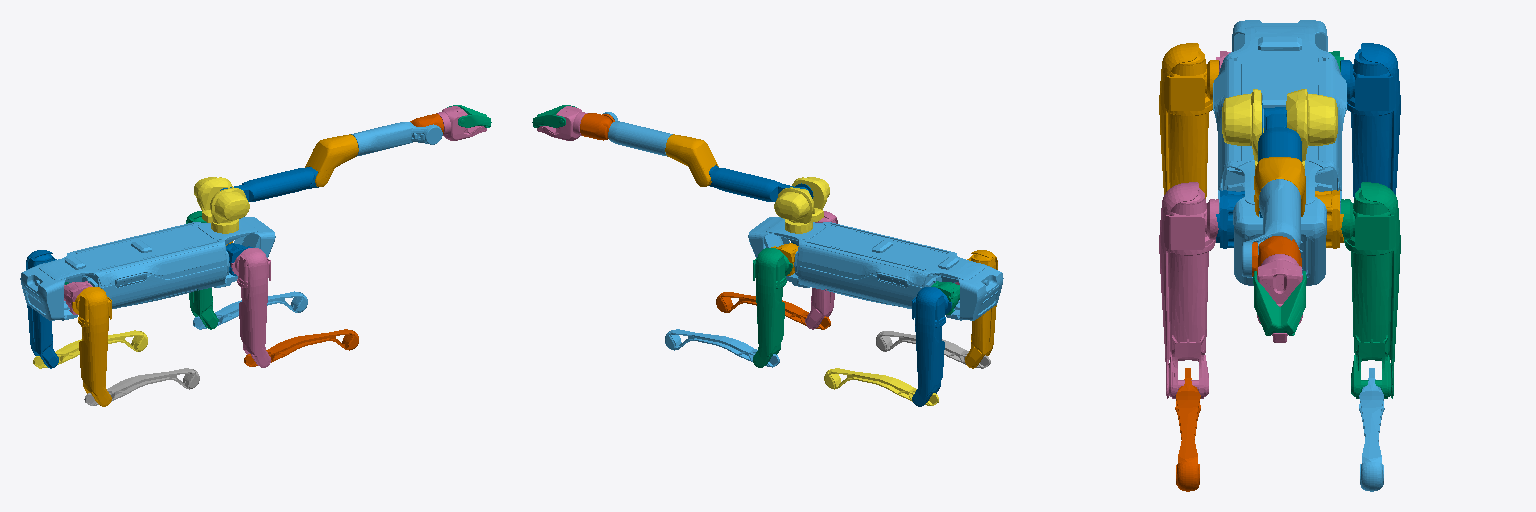
URDF robot description (spot_arm_original):
<?xml version="1.0" encoding="UTF-8"?>
<robot name="spot_arm_original">
  <joint name="arm0_el0" type="revolute">
    <origin xyz="0.3385 0. 0. " rpy="0. 0. 0."/>
    <parent link="arm0_link_sh1"/>
    <child link="arm0_link_el0"/>
    <axis xyz="0. 1. 0."/>
    <limit lower="0." upper="3.14159" effort="90.9000015" velocity="99.9000045"/>
  </joint>
  <joint name="arm0_el1" type="revolute">
    <origin xyz="0.4033 0. 0.075 " rpy="0. 0. 0."/>
    <parent link="arm0_link_el0"/>
    <child link="arm0_link_el1"/>
    <axis xyz="1. 0. 0."/>
    <limit lower="-2.79253" upper="2.79253" effort="30.2999992" velocity="99.9000045"/>
  </joint>
  <joint name="arm0_f1x" type="revolute">
    <origin xyz="0.11745 0. 0.01482" rpy="0. 0. 0."/>
    <parent link="arm0_link_wr1"/>
    <child link="arm0_link_fngr"/>
    <axis xyz="0. 1. 0."/>
    <limit lower="-1.5707999" upper="0." effort="15.3199997" velocity="99.9000045"/>
  </joint>
  <joint name="arm0_sh0" type="revolute">
    <origin xyz="0.292 0. 0.188" rpy="0. 0. 0."/>
    <parent link="spot"/>
    <child link="arm0_link_sh0"/>
    <axis xyz="0. 0. 1."/>
    <limit lower="-2.6179899" upper="3.14159" effort="90.9000015" velocity="99.9000045"/>
  </joint>
  <joint name="arm0_sh1" type="revolute">
    <origin xyz="0. 0. 0." rpy="0. 0. 0."/>
    <parent link="arm0_link_sh0"/>
    <child link="arm0_link_sh1"/>
    <axis xyz="0. 1. 0."/>
    <limit lower="-3.14159" upper="0.523599" effort="181.8000031" velocity="99.9000045"/>
  </joint>
  <joint name="arm0_wr0" type="revolute">
    <origin xyz="-0.0000001 0. 0. " rpy="0. 0. 0."/>
    <parent link="arm0_link_el1"/>
    <child link="arm0_link_wr0"/>
    <axis xyz="0. 1. 0."/>
    <limit lower="-1.8325998" upper="1.8325998" effort="30.2999992" velocity="99.9000045"/>
  </joint>
  <joint name="arm0_wr1" type="revolute">
    <origin xyz="0. 0. 0." rpy="0. 0. 0."/>
    <parent link="arm0_link_wr0"/>
    <child link="arm0_link_wr1"/>
    <axis xyz="1. 0. 0."/>
    <limit lower="-2.8798899" upper="2.8797898" effort="30.2999992" velocity="99.9000045"/>
  </joint>
  <joint name="fl_ank" type="fixed">
    <origin xyz="0. 0. -0.3365" rpy="0. 0. 0."/>
    <parent link="fl_lleg"/>
    <child link="fl_foot"/>
  </joint>
  <joint name="fl_hx" type="revolute">
    <origin xyz="0.29785 0.055 0. " rpy="0. 0. 0."/>
    <parent link="spot"/>
    <child link="fl_hip"/>
    <axis xyz="1. 0. 0."/>
    <limit lower="-0.785398" upper="0.785398" effort="45." velocity="100.000003"/>
  </joint>
  <joint name="fl_hy" type="revolute">
    <origin xyz="0. 0.110945 0. " rpy="0. 0. 0."/>
    <parent link="fl_hip"/>
    <child link="fl_uleg"/>
    <axis xyz="0. 1. 0."/>
    <limit lower="-0.898845" upper="2.295108" effort="45." velocity="100.000003"/>
  </joint>
  <joint name="fl_kn" type="revolute">
    <origin xyz="0.025 0. -0.3205" rpy="0. 0. 0."/>
    <parent link="fl_uleg"/>
    <child link="fl_lleg"/>
    <axis xyz="0. 1. 0."/>
    <limit lower="-2.7928999" upper="-0.2471" effort="115." velocity="100.000003"/>
  </joint>
  <joint name="fr_ank" type="fixed">
    <origin xyz="0. 0. -0.3365" rpy="0. 0. 0."/>
    <parent link="fr_lleg"/>
    <child link="fr_foot"/>
  </joint>
  <joint name="fr_hx" type="revolute">
    <origin xyz="0.29785 -0.055 0. " rpy="0. 0. 0."/>
    <parent link="spot"/>
    <child link="fr_hip"/>
    <axis xyz="1. 0. 0."/>
    <limit lower="-0.785398" upper="0.785398" effort="45." velocity="100.000003"/>
  </joint>
  <joint name="fr_hy" type="revolute">
    <origin xyz="0. -0.110945 0. " rpy="0. 0. 0."/>
    <parent link="fr_hip"/>
    <child link="fr_uleg"/>
    <axis xyz="0. 1. 0."/>
    <limit lower="-0.898845" upper="2.295108" effort="45." velocity="100.000003"/>
  </joint>
  <joint name="fr_kn" type="revolute">
    <origin xyz="0.025 0. -0.3205" rpy="0. 0. 0."/>
    <parent link="fr_uleg"/>
    <child link="fr_lleg"/>
    <axis xyz="0. 1. 0."/>
    <limit lower="-2.7928999" upper="-0.2471" effort="115." velocity="100.000003"/>
  </joint>
  <joint name="hl_ank" type="fixed">
    <origin xyz="0. 0. -0.3365" rpy="0. 0. 0."/>
    <parent link="hl_lleg"/>
    <child link="hl_foot"/>
  </joint>
  <joint name="hl_hx" type="revolute">
    <origin xyz="-0.29785 0.055 0. " rpy="0. 0. 0."/>
    <parent link="spot"/>
    <child link="hl_hip"/>
    <axis xyz="1. 0. 0."/>
    <limit lower="-0.785398" upper="0.785398" effort="45." velocity="100.000003"/>
  </joint>
  <joint name="hl_hy" type="revolute">
    <origin xyz="0. 0.110945 0. " rpy="0. 0. 0."/>
    <parent link="hl_hip"/>
    <child link="hl_uleg"/>
    <axis xyz="0. 1. 0."/>
    <limit lower="-0.898845" upper="2.295108" effort="45." velocity="100.000003"/>
  </joint>
  <joint name="hl_kn" type="revolute">
    <origin xyz="0.025 0. -0.3205" rpy="0. 0. 0."/>
    <parent link="hl_uleg"/>
    <child link="hl_lleg"/>
    <axis xyz="0. 1. 0."/>
    <limit lower="-2.7928999" upper="-0.2471" effort="115." velocity="100.000003"/>
  </joint>
  <joint name="hr_ank" type="fixed">
    <origin xyz="0. 0. -0.3365" rpy="0. 0. 0."/>
    <parent link="hr_lleg"/>
    <child link="hr_foot"/>
  </joint>
  <joint name="hr_hx" type="revolute">
    <origin xyz="-0.29785 -0.055 0. " rpy="0. 0. 0."/>
    <parent link="spot"/>
    <child link="hr_hip"/>
    <axis xyz="1. 0. 0."/>
    <limit lower="-0.785398" upper="0.785398" effort="45." velocity="100.000003"/>
  </joint>
  <joint name="hr_hy" type="revolute">
    <origin xyz="0. -0.110945 0. " rpy="0. 0. 0."/>
    <parent link="hr_hip"/>
    <child link="hr_uleg"/>
    <axis xyz="0. 1. 0."/>
    <limit lower="-0.898845" upper="2.295108" effort="45." velocity="100.000003"/>
  </joint>
  <joint name="hr_kn" type="revolute">
    <origin xyz="0.025 0. -0.3205" rpy="0. 0. 0."/>
    <parent link="hr_uleg"/>
    <child link="hr_lleg"/>
    <axis xyz="0. 1. 0."/>
    <limit lower="-2.7928999" upper="-0.2471" effort="115." velocity="100.000003"/>
  </joint>
  <joint name="joint_spot-frontleft_fisheye" type="fixed">
    <origin xyz="0.4301646 -0.046357 0. " rpy="1.5707964 0. -2.0592291"/>
    <parent link="spot"/>
    <child link="frontleft_fisheye"/>
  </joint>
  <joint name="joint_spot-frontright_fisheye" type="fixed">
    <origin xyz="0.4155736 0. 0. " rpy="1.4569141 0.1030408 -1.1296011"/>
    <parent link="spot"/>
    <child link="frontright_fisheye"/>
  </joint>
  <link name="arm0_link_el0">
    <inertial>
      <origin xyz="0.0447662 -0.0027113 0.0499136" rpy="0. 0. 0."/>
      <mass value="0.9483196"/>
      <inertia ixx="0.0017591" ixy="0.0000609" ixz="0.0009238" iyy="0.0026923" iyz="0.0000522" izz="0.0020285"/>
    </inertial>
    <visual>
      <origin xyz="-0. 0. 0." rpy="0. 0. 0."/>
      <geometry>
        <mesh filename="meshes/arm0_link_el0_visuals.obj" scale="1. 1. 1."/>
      </geometry>
    </visual>
    <collision>
      <origin xyz="-0. 0. 0." rpy="0. 0. 0."/>
      <geometry>
        <mesh filename="meshes/arm0_link_el0_visuals.obj" scale="1. 1. 1."/>
      </geometry>
    </collision>
  </link>
  <link name="arm0_link_el1">
    <inertial>
      <origin xyz="-0.1686707 -0.0161612 0.0000115" rpy="0. 0. 0."/>
      <mass value="1.0175482"/>
      <inertia ixx="0.0011771" ixy="-0.0026055" ixz="0.0000016" iyy="0.0164939" iyz="-0.0000029" izz="0.016899"/>
    </inertial>
    <visual>
      <origin xyz="-0.0000001 0. 0. " rpy="0. 0. 0."/>
      <geometry>
        <mesh filename="meshes/arm0_link_el1_visuals.obj" scale="1. 1. 1."/>
      </geometry>
    </visual>
    <collision>
      <origin xyz="-0.0000001 0. 0. " rpy="0. 0. 0."/>
      <geometry>
        <mesh filename="meshes/arm0_link_el1_visuals.obj" scale="1. 1. 1."/>
      </geometry>
    </collision>
  </link>
  <link name="arm0_link_fngr">
    <inertial>
      <origin xyz="0.0356518 0.000672 -0.0122752" rpy="0. 0. 0."/>
      <mass value="0.2238331"/>
      <inertia ixx="0.0002523" ixy="-0.0000054" ixz="-0.0001507" iyy="0.0004845" iyz="0.0000018" izz="0.0005914"/>
    </inertial>
    <visual>
      <origin xyz="0. 0. 0." rpy="0. 0. 0."/>
      <geometry>
        <mesh filename="meshes/arm0_link_fngr_visuals.obj" scale="1. 1. 1."/>
      </geometry>
    </visual>
    <collision>
      <origin xyz="0. 0. 0." rpy="0. 0. 0."/>
      <geometry>
        <mesh filename="meshes/arm0_link_fngr_visuals.obj" scale="1. 1. 1."/>
      </geometry>
    </collision>
  </link>
  <link name="arm0_link_sh0">
    <inertial>
      <origin xyz="-0.008399 0.000272 -0.024603" rpy="0. 0. 0."/>
      <mass value="1.904699"/>
      <inertia ixx="0.008896" ixy="0.000005" ixz="-0.000193" iyy="0.004922" iyz="0.000033" izz="0.007303"/>
    </inertial>
    <visual>
      <origin xyz="0. 0. 0." rpy="0. 0. 0."/>
      <geometry>
        <mesh filename="meshes/arm0_link_sh0_visuals.obj" scale="1. 1. 1."/>
      </geometry>
    </visual>
    <collision>
      <origin xyz="0. 0. 0." rpy="0. 0. 0."/>
      <geometry>
        <mesh filename="meshes/arm0_link_sh0_visuals.obj" scale="1. 1. 1."/>
      </geometry>
    </collision>
  </link>
  <link name="arm0_link_sh1">
    <inertial>
      <origin xyz="0.0808491 -0.0016724 0.0004564" rpy="0. 0. 0."/>
      <mass value="1.8570194"/>
      <inertia ixx="0.0026153" ixy="-0.0004041" ixz="0.0001002" iyy="0.0270387" iyz="0.0000055" izz="0.0281993"/>
    </inertial>
    <visual>
      <origin xyz="0. 0. 0." rpy="0. 0. 0."/>
      <geometry>
        <mesh filename="meshes/arm0_link_sh1_visuals_mesh_0.obj" scale="1. 1. 1."/>
      </geometry>
    </visual>
    <visual>
      <origin xyz="0. 0. 0." rpy="0. 0. 0."/>
      <geometry>
        <mesh filename="meshes/arm0_link_sh1_visuals_mesh_1.obj" scale="1. 1. 1."/>
      </geometry>
    </visual>
    <collision>
      <origin xyz="0. 0. 0." rpy="0. 0. 0."/>
      <geometry>
        <mesh filename="meshes/arm0_link_sh1_visuals_mesh_0.obj" scale="1. 1. 1."/>
      </geometry>
    </collision>
    <collision>
      <origin xyz="0. 0. 0." rpy="0. 0. 0."/>
      <geometry>
        <mesh filename="meshes/arm0_link_sh1_visuals_mesh_1.obj" scale="1. 1. 1."/>
      </geometry>
    </collision>
  </link>
  <link name="arm0_link_wr0">
    <inertial>
      <origin xyz="0.0095246 -0.0114441 0.0000019" rpy="0. 0. 0."/>
      <mass value="0.5826374"/>
      <inertia ixx="0.0004674" ixy="0.0000696" ixz="0.0000004" iyy="0.0004497" iyz="0.0000002" izz="0.0005362"/>
    </inertial>
    <visual>
      <origin xyz="0. 0. 0." rpy="0. 0. 0."/>
      <geometry>
        <mesh filename="meshes/arm0_link_wr0_visuals.obj" scale="1. 1. 1."/>
      </geometry>
    </visual>
    <collision>
      <origin xyz="0. 0. 0." rpy="0. 0. 0."/>
      <geometry>
        <mesh filename="meshes/arm0_link_wr0_visuals.obj" scale="1. 1. 1."/>
      </geometry>
    </collision>
  </link>
  <link name="arm0_link_wr1">
    <inertial>
      <origin xyz="0.0975128 0.0000926 -0.0112052" rpy="0. 0. 0."/>
      <mass value="0.933353"/>
      <inertia ixx="0.0009884" ixy="-0.0000013" ixz="-0.0003692" iyy="0.0019702" iyz="-0.0000007" izz="0.0016579"/>
    </inertial>
    <visual>
      <origin xyz="0. 0. 0." rpy="0. 0. 0."/>
      <geometry>
        <mesh filename="meshes/arm0_link_wr1_visuals.obj" scale="1. 1. 1."/>
      </geometry>
    </visual>
    <collision>
      <origin xyz="0. 0. 0." rpy="0. 0. 0."/>
      <geometry>
        <mesh filename="meshes/arm0_link_wr1_visuals.obj" scale="1. 1. 1."/>
      </geometry>
    </collision>
  </link>
  <link name="fl_foot">
    <inertial>
      <origin xyz="0. 0. 0." rpy="0. 0. 0."/>
      <mass value="0.000001"/>
      <inertia ixx="0.001" ixy="0." ixz="0." iyy="0.001" iyz="0." izz="0.001"/>
    </inertial>
    <collision>
      <origin xyz="0. 0. 0." rpy="0. 0. 0."/>
      <geometry>
        <sphere radius="0.035"/>
      </geometry>
    </collision>
  </link>
  <link name="fl_hip">
    <inertial>
      <origin xyz="-0.0158674 0.0085584 0.000009 " rpy="0. 0. 0."/>
      <mass value="1.1368834"/>
      <inertia ixx="0.0012217" ixy="-0.0001775" ixz="0.0000004" iyy="0.0015896" iyz="-0.0000005" izz="0.001729"/>
    </inertial>
    <visual>
      <origin xyz="0. 0. 0." rpy="0. 0. 0."/>
      <geometry>
        <mesh filename="meshes/fl_hip_visuals_mesh_0.obj" scale="1. 1. 1."/>
      </geometry>
    </visual>
  </link>
  <link name="fl_lleg">
    <inertial>
      <origin xyz="0.0059736 0. -0.1746643" rpy="0. 0. 0."/>
      <mass value="0.33"/>
      <inertia ixx="0.0070136" ixy="0." ixz="0.000066" iyy="0.0070995" iyz="0." izz="0.0001453"/>
    </inertial>
    <visual>
      <origin xyz="0. 0. 0." rpy="0. 0. 0."/>
      <geometry>
        <mesh filename="meshes/fl_lleg_visuals_mesh_0.obj" scale="1. 1. 1."/>
      </geometry>
    </visual>
  </link>
  <link name="fl_uleg">
    <inertial>
      <origin xyz="0.0021444 -0.0111018 -0.078812 " rpy="0. 0. 0."/>
      <mass value="2.2562037"/>
      <inertia ixx="0.026925" ixy="-0.0000878" ixz="0.0005487" iyy="0.0258391" iyz="0.0020715" izz="0.0031874"/>
    </inertial>
    <visual>
      <origin xyz="0. 0. 0." rpy="0. 0. 0."/>
      <geometry>
        <mesh filename="meshes/fl_uleg_visuals_mesh_0.obj" scale="1. 1. 1."/>
      </geometry>
    </visual>
  </link>
  <link name="fr_foot">
    <inertial>
      <origin xyz="0. 0. 0." rpy="0. 0. 0."/>
      <mass value="0.000001"/>
      <inertia ixx="0.001" ixy="0." ixz="0." iyy="0.001" iyz="0." izz="0.001"/>
    </inertial>
    <collision>
      <origin xyz="0. 0. 0." rpy="0. 0. 0."/>
      <geometry>
        <sphere radius="0.035"/>
      </geometry>
    </collision>
  </link>
  <link name="fr_hip">
    <inertial>
      <origin xyz="-0.0158674 -0.0085584 0.000009 " rpy="0. 0. 0."/>
      <mass value="1.1368834"/>
      <inertia ixx="0.0012217" ixy="0.0001775" ixz="0.0000004" iyy="0.0015896" iyz="0.0000005" izz="0.001729"/>
    </inertial>
    <visual>
      <origin xyz="0. 0. 0." rpy="0. 0. 0."/>
      <geometry>
        <mesh filename="meshes/fr_hip_visuals_mesh_0.obj" scale="1. 1. 1."/>
      </geometry>
    </visual>
  </link>
  <link name="fr_lleg">
    <inertial>
      <origin xyz="0.0059736 0. -0.1746643" rpy="0. 0. 0."/>
      <mass value="0.33"/>
      <inertia ixx="0.0070136" ixy="0." ixz="0.000066" iyy="0.0070995" iyz="0." izz="0.0001453"/>
    </inertial>
    <visual>
      <origin xyz="0. 0. 0." rpy="0. 0. 0."/>
      <geometry>
        <mesh filename="meshes/fr_lleg_visuals_mesh_0.obj" scale="1. 1. 1."/>
      </geometry>
    </visual>
  </link>
  <link name="fr_uleg">
    <inertial>
      <origin xyz="0.0021444 0.0111018 -0.078812 " rpy="0. 0. 0."/>
      <mass value="2.2562037"/>
      <inertia ixx="0.026925" ixy="0.0000878" ixz="0.0005487" iyy="0.0258391" iyz="-0.0020715" izz="0.0031874"/>
    </inertial>
    <visual>
      <origin xyz="0. 0. 0." rpy="0. 0. 0."/>
      <geometry>
        <mesh filename="meshes/fr_uleg_visuals_mesh_0.obj" scale="1. 1. 1."/>
      </geometry>
    </visual>
  </link>
  <link name="frontleft_fisheye"/>
  <link name="frontright_fisheye"/>
  <link name="hl_foot">
    <inertial>
      <origin xyz="0. 0. 0." rpy="0. 0. 0."/>
      <mass value="0.000001"/>
      <inertia ixx="0.001" ixy="0." ixz="0." iyy="0.001" iyz="0." izz="0.001"/>
    </inertial>
    <collision>
      <origin xyz="0. 0. 0." rpy="0. 0. 0."/>
      <geometry>
        <sphere radius="0.035"/>
      </geometry>
    </collision>
  </link>
  <link name="hl_hip">
    <inertial>
      <origin xyz="0.0158674 0.0085584 0.000009 " rpy="0. 0. 0."/>
      <mass value="1.1368834"/>
      <inertia ixx="0.0012217" ixy="0.0001775" ixz="-0.0000004" iyy="0.0015896" iyz="-0.0000005" izz="0.001729"/>
    </inertial>
    <visual>
      <origin xyz="0. 0. 0." rpy="0. 0. 0."/>
      <geometry>
        <mesh filename="meshes/hl_hip_visuals_mesh_0.obj" scale="1. 1. 1."/>
      </geometry>
    </visual>
  </link>
  <link name="hl_lleg">
    <inertial>
      <origin xyz="0.0059736 0. -0.1746643" rpy="0. 0. 0."/>
      <mass value="0.33"/>
      <inertia ixx="0.0070136" ixy="0." ixz="0.000066" iyy="0.0070995" iyz="0." izz="0.0001453"/>
    </inertial>
    <visual>
      <origin xyz="0. 0. 0." rpy="0. 0. 0."/>
      <geometry>
        <mesh filename="meshes/hl_lleg_visuals_mesh_0.obj" scale="1. 1. 1."/>
      </geometry>
    </visual>
  </link>
  <link name="hl_uleg">
    <inertial>
      <origin xyz="0.0021444 -0.0111018 -0.078812 " rpy="0. 0. 0."/>
      <mass value="2.2562037"/>
      <inertia ixx="0.026925" ixy="-0.0000878" ixz="0.0005487" iyy="0.0258391" iyz="0.0020715" izz="0.0031874"/>
    </inertial>
    <visual>
      <origin xyz="0. 0. 0." rpy="0. 0. 0."/>
      <geometry>
        <mesh filename="meshes/hl_uleg_visuals_mesh_0.obj" scale="1. 1. 1."/>
      </geometry>
    </visual>
  </link>
  <link name="hr_foot">
    <inertial>
      <origin xyz="0. 0. 0." rpy="0. 0. 0."/>
      <mass value="0.000001"/>
      <inertia ixx="0.001" ixy="0." ixz="0." iyy="0.001" iyz="0." izz="0.001"/>
    </inertial>
    <collision>
      <origin xyz="0. 0. 0." rpy="0. 0. 0."/>
      <geometry>
        <sphere radius="0.035"/>
      </geometry>
    </collision>
  </link>
  <link name="hr_hip">
    <inertial>
      <origin xyz="0.0158674 -0.0085584 0.000009 " rpy="0. 0. 0."/>
      <mass value="1.1368834"/>
      <inertia ixx="0.0012217" ixy="-0.0001775" ixz="-0.0000004" iyy="0.0015896" iyz="0.0000005" izz="0.001729"/>
    </inertial>
    <visual>
      <origin xyz="0. 0. 0." rpy="0. 0. 0."/>
      <geometry>
        <mesh filename="meshes/hr_hip_visuals_mesh_0.obj" scale="1. 1. 1."/>
      </geometry>
    </visual>
  </link>
  <link name="hr_lleg">
    <inertial>
      <origin xyz="0.0059736 0. -0.1746643" rpy="0. 0. 0."/>
      <mass value="0.33"/>
      <inertia ixx="0.0070136" ixy="0." ixz="0.000066" iyy="0.0070995" iyz="0." izz="0.0001453"/>
    </inertial>
    <visual>
      <origin xyz="0. 0. 0." rpy="0. 0. 0."/>
      <geometry>
        <mesh filename="meshes/hr_lleg_visuals_mesh_0.obj" scale="1. 1. 1."/>
      </geometry>
    </visual>
  </link>
  <link name="hr_uleg">
    <inertial>
      <origin xyz="0.0021444 0.0111018 -0.078812 " rpy="0. 0. 0."/>
      <mass value="2.2562037"/>
      <inertia ixx="0.026925" ixy="0.0000878" ixz="0.0005487" iyy="0.0258391" iyz="-0.0020715" izz="0.0031874"/>
    </inertial>
    <visual>
      <origin xyz="0. 0. 0." rpy="0. 0. 0."/>
      <geometry>
        <mesh filename="meshes/hr_uleg_visuals_mesh_0.obj" scale="1. 1. 1."/>
      </geometry>
    </visual>
  </link>
  <link name="spot">
    <visual>
      <origin xyz="0. 0. 0." rpy="0. 0. 0."/>
      <geometry>
        <mesh filename="meshes/body_visuals_mesh_0.obj" scale="1. 1. 1."/>
      </geometry>
    </visual>
    <collision>
      <origin xyz="0. 0. 0." rpy="0. 0. 0."/>
      <geometry>
        <box size="0.85 0.2 0.14"/>
      </geometry>
    </collision>
  </link>
</robot>

--- What the picture shows (computed from the rendered views, not written in the file) ---
3 views of the same robot in one strip: view 1: azimuth 30°, elevation 25°; view 2: azimuth 150°, elevation 25°; view 3: azimuth 270°, elevation 25° (orthographic).
Robot: spot_arm_original — 26 links, 25 joints (19 revolute, 6 fixed); root link spot; default pose: all joints at 0 but 4 set to mid-range because 0 is outside their limits (fl_kn = -1.52, fr_kn = -1.52, hl_kn = -1.52, hr_kn = -1.52).
Links seen in each view (by area): view 1: spot, hr_uleg, fr_uleg, arm0_link_sh0, arm0_link_el1, arm0_link_sh1, arm0_link_el0, hl_uleg, fr_lleg, hr_lleg, fl_lleg, hl_lleg (+2 smaller); view 2: spot, hl_uleg, fl_uleg, arm0_link_sh0, arm0_link_sh1, arm0_link_el0, hr_uleg, arm0_link_el1, fl_lleg, hl_lleg, fr_lleg, hr_lleg (+3 smaller); view 3: spot, fl_uleg, fr_uleg, hr_uleg, hl_uleg, arm0_link_sh0, arm0_link_el1, fl_lleg, fr_lleg, arm0_link_fngr, arm0_link_wr1, arm0_link_sh1 (+4 smaller).
Link boxes in pixels (x1,y1,x2,y2): spot: (20,217,275,320); hr_uleg: (72,287,111,406); fr_uleg: (231,248,270,367); arm0_link_sh0: (194,177,249,233); arm0_link_el1: (351,122,442,156); arm0_link_sh1: (220,167,318,201); arm0_link_el0: (305,134,358,186); hl_uleg: (26,250,58,368); fr_lleg: (244,329,358,366); hr_lleg: (84,368,199,405); fl_lleg: (193,291,307,329); hl_lleg: (33,330,147,368); spot: (748,217,1003,320); hl_uleg: (912,287,951,406); fl_uleg: (753,248,792,367); arm0_link_sh0: (774,177,829,233); arm0_link_sh1: (709,165,813,201); arm0_link_el0: (665,134,718,186); hr_uleg: (965,250,997,368); arm0_link_el1: (603,112,672,156); fl_lleg: (665,329,779,367); hl_lleg: (824,368,938,405); fr_lleg: (716,292,830,329); hr_lleg: (876,331,990,368); spot: (1213,20,1346,285); fl_uleg: (1341,182,1400,398); fr_uleg: (1159,182,1218,398); hr_uleg: (1159,43,1218,198); hl_uleg: (1341,43,1400,198); arm0_link_sh0: (1222,89,1337,168); arm0_link_el1: (1242,179,1300,277); fl_lleg: (1359,368,1384,491); fr_lleg: (1175,368,1200,491); arm0_link_fngr: (1253,271,1306,335); arm0_link_wr1: (1257,254,1302,342); arm0_link_sh1: (1258,103,1301,217).
Bounding box of the posed robot: 1.71 × 0.4364 × 0.6735 m (x, y, z).
Meshes: 21 distinct files referenced, 21 mesh visuals loaded (21 OBJ).
